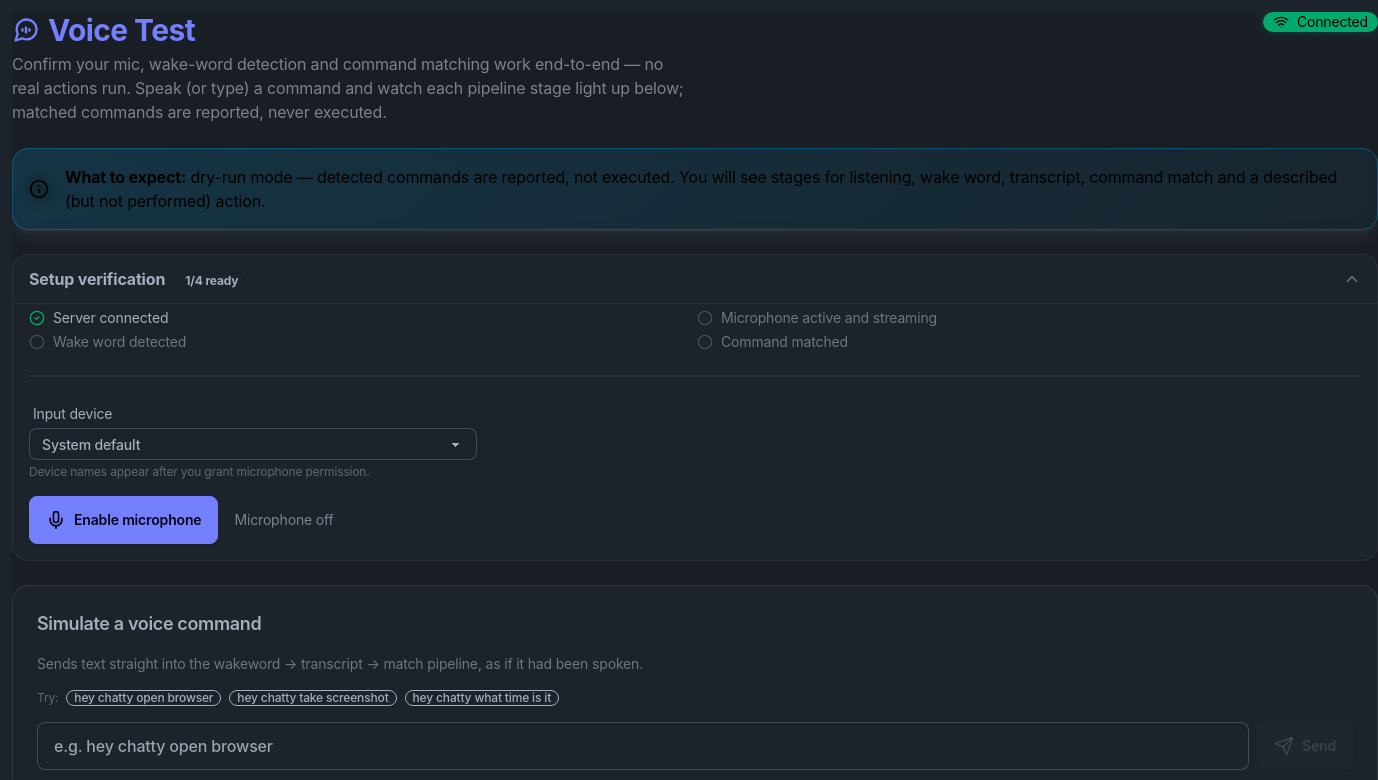
Test: VoiceTestPage › text simulation and stage timeline › wake-word example chips fill the simulation input
Click the button with test id "wake-word-chip" showing "hey chatty open browser": (144, 698) [66, 690, 221, 706]
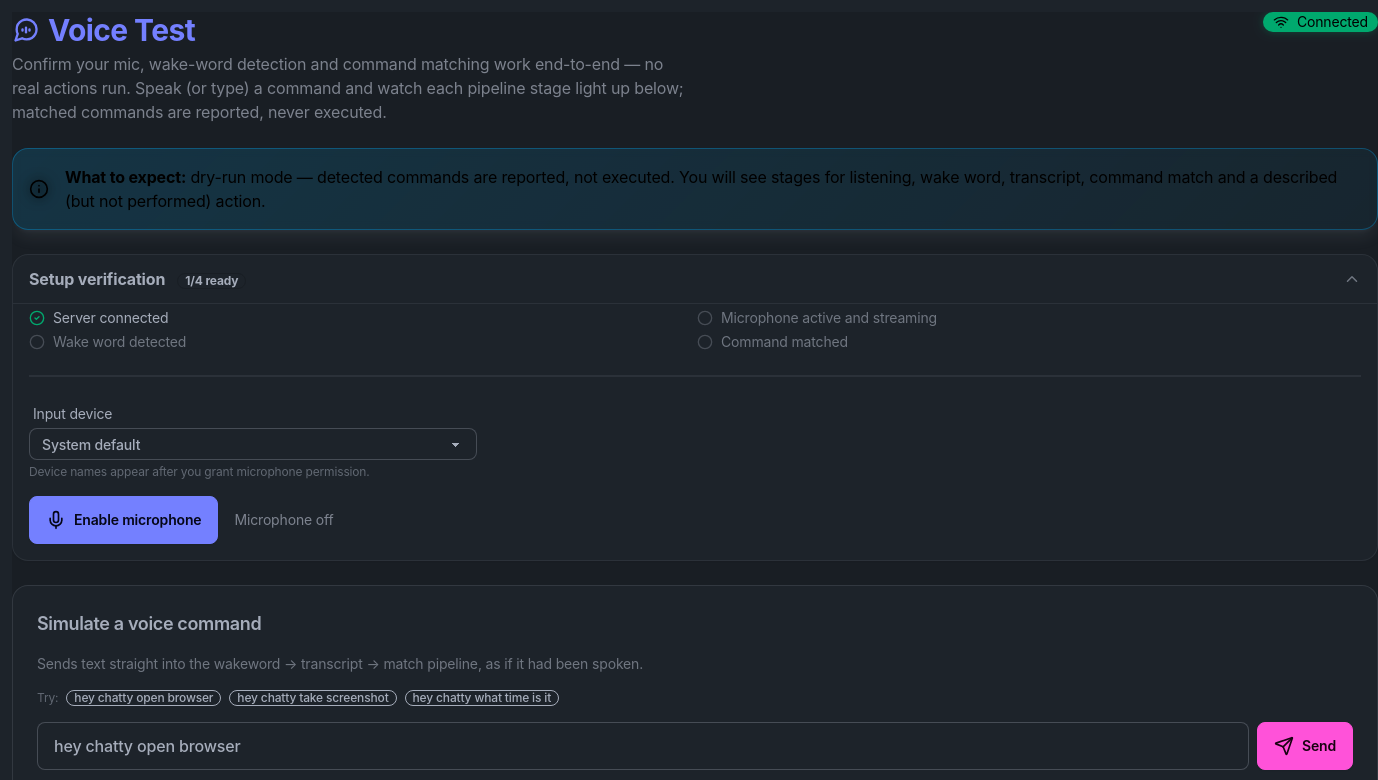
Check: the field named "Simulate a voice command" holds "hey chatty open browser", box [37, 722, 1249, 770]
